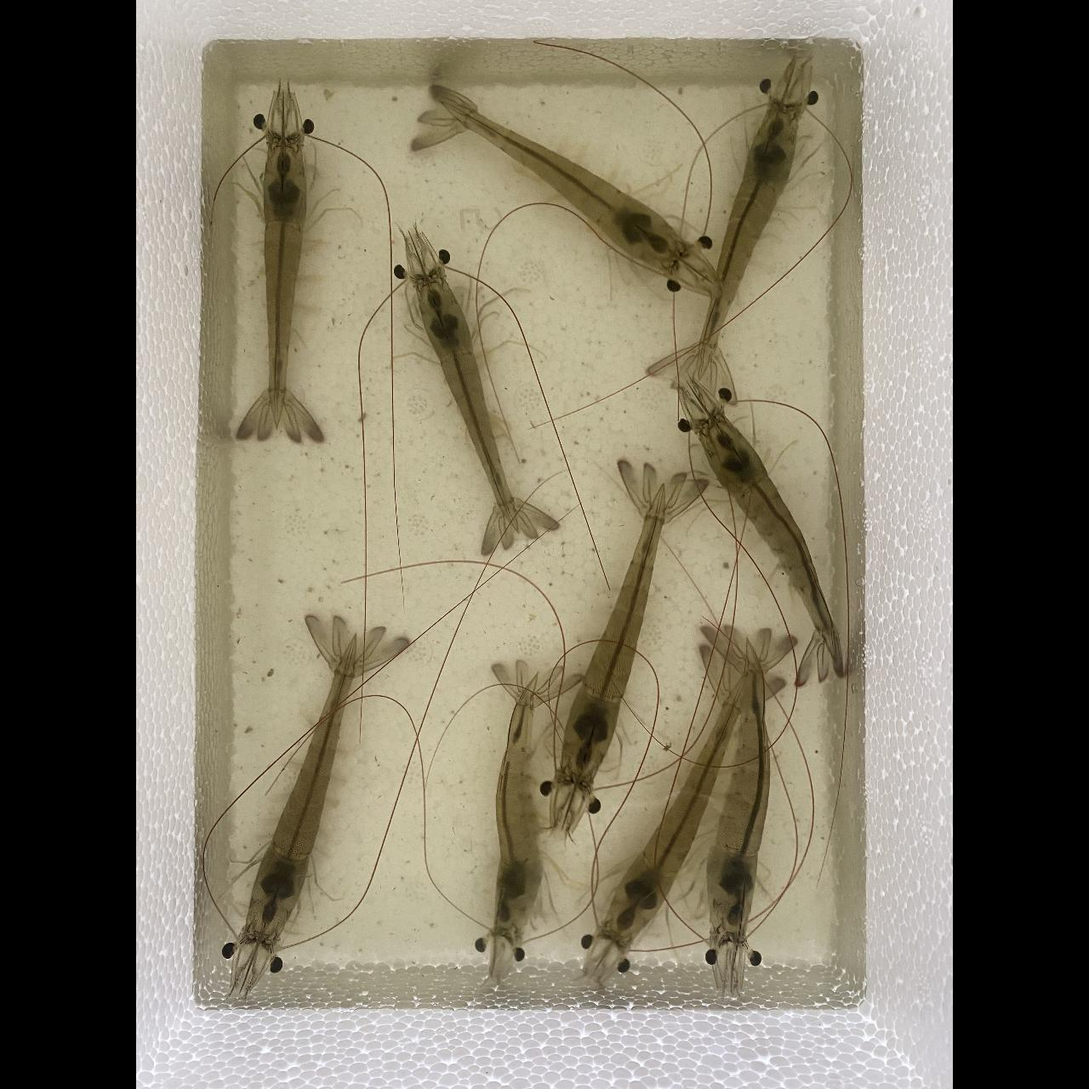side_shrimp: (495, 677, 541, 929)
top_shrimp: (437, 99, 686, 269), (606, 676, 747, 939), (245, 638, 356, 941), (701, 417, 837, 652), (560, 485, 665, 783), (699, 105, 796, 369), (417, 274, 516, 527), (707, 634, 772, 940), (495, 679, 543, 931), (264, 140, 305, 422)
